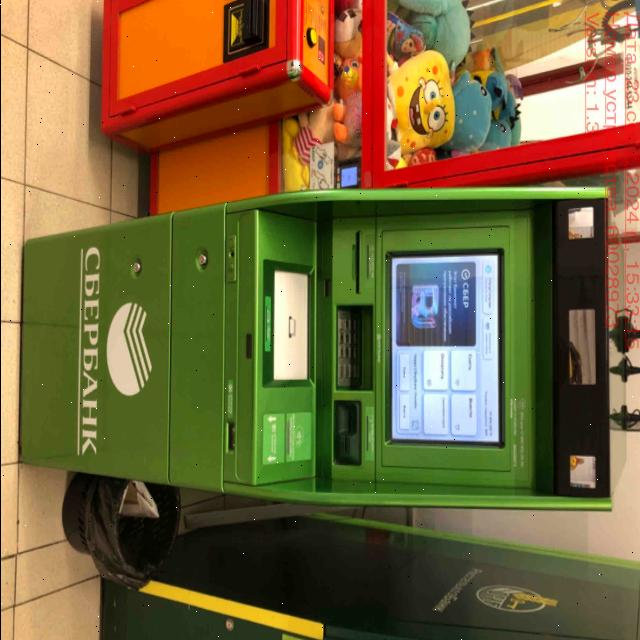bank: (19, 180, 626, 514)
